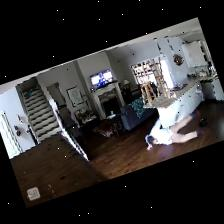person: (146, 111, 204, 150), (99, 74, 107, 86)
